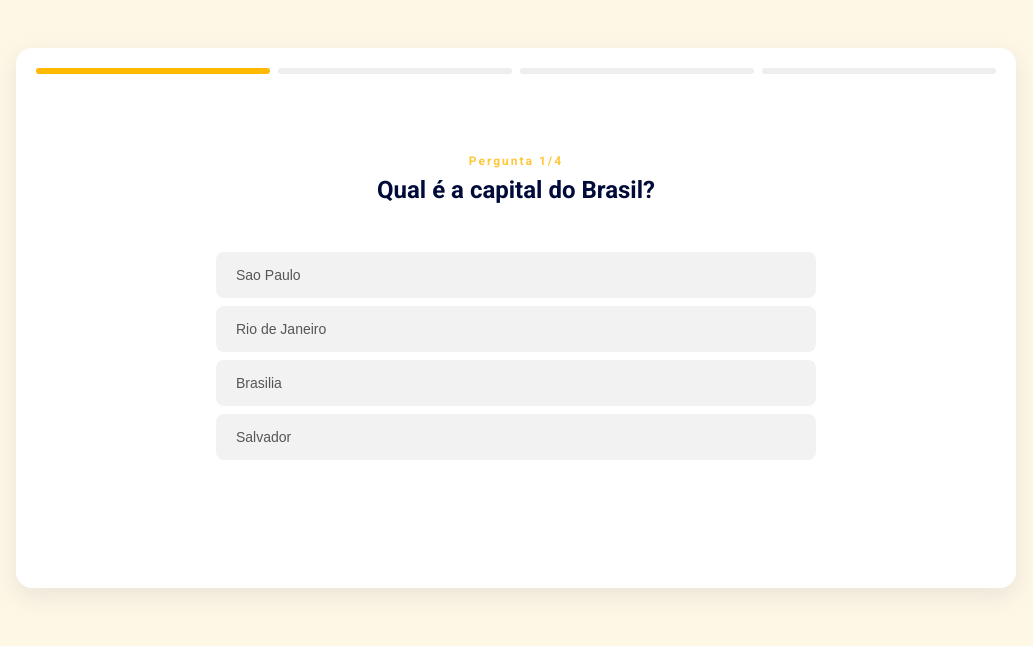
Quiz Component › should answer any question
Click the button "Sao Paulo". click: (268, 275)
box: x1=216 y1=252 x2=816 y2=298
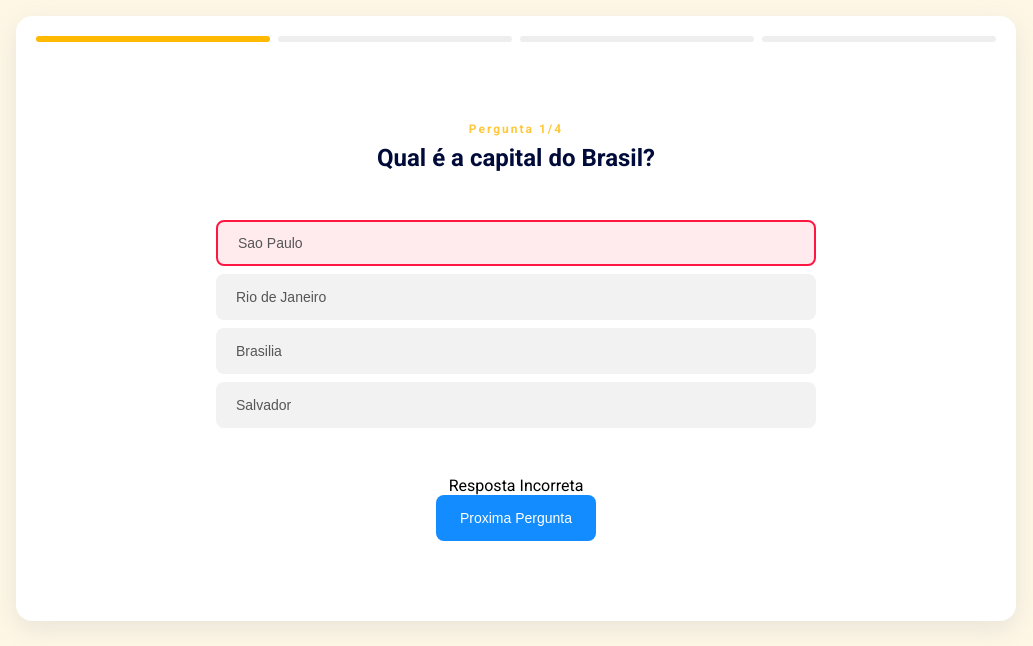
Check: the button "Proxima Pergunta" is shown, box x1=436 y1=494 x2=596 y2=540
